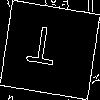T: (24, 24, 59, 75)
